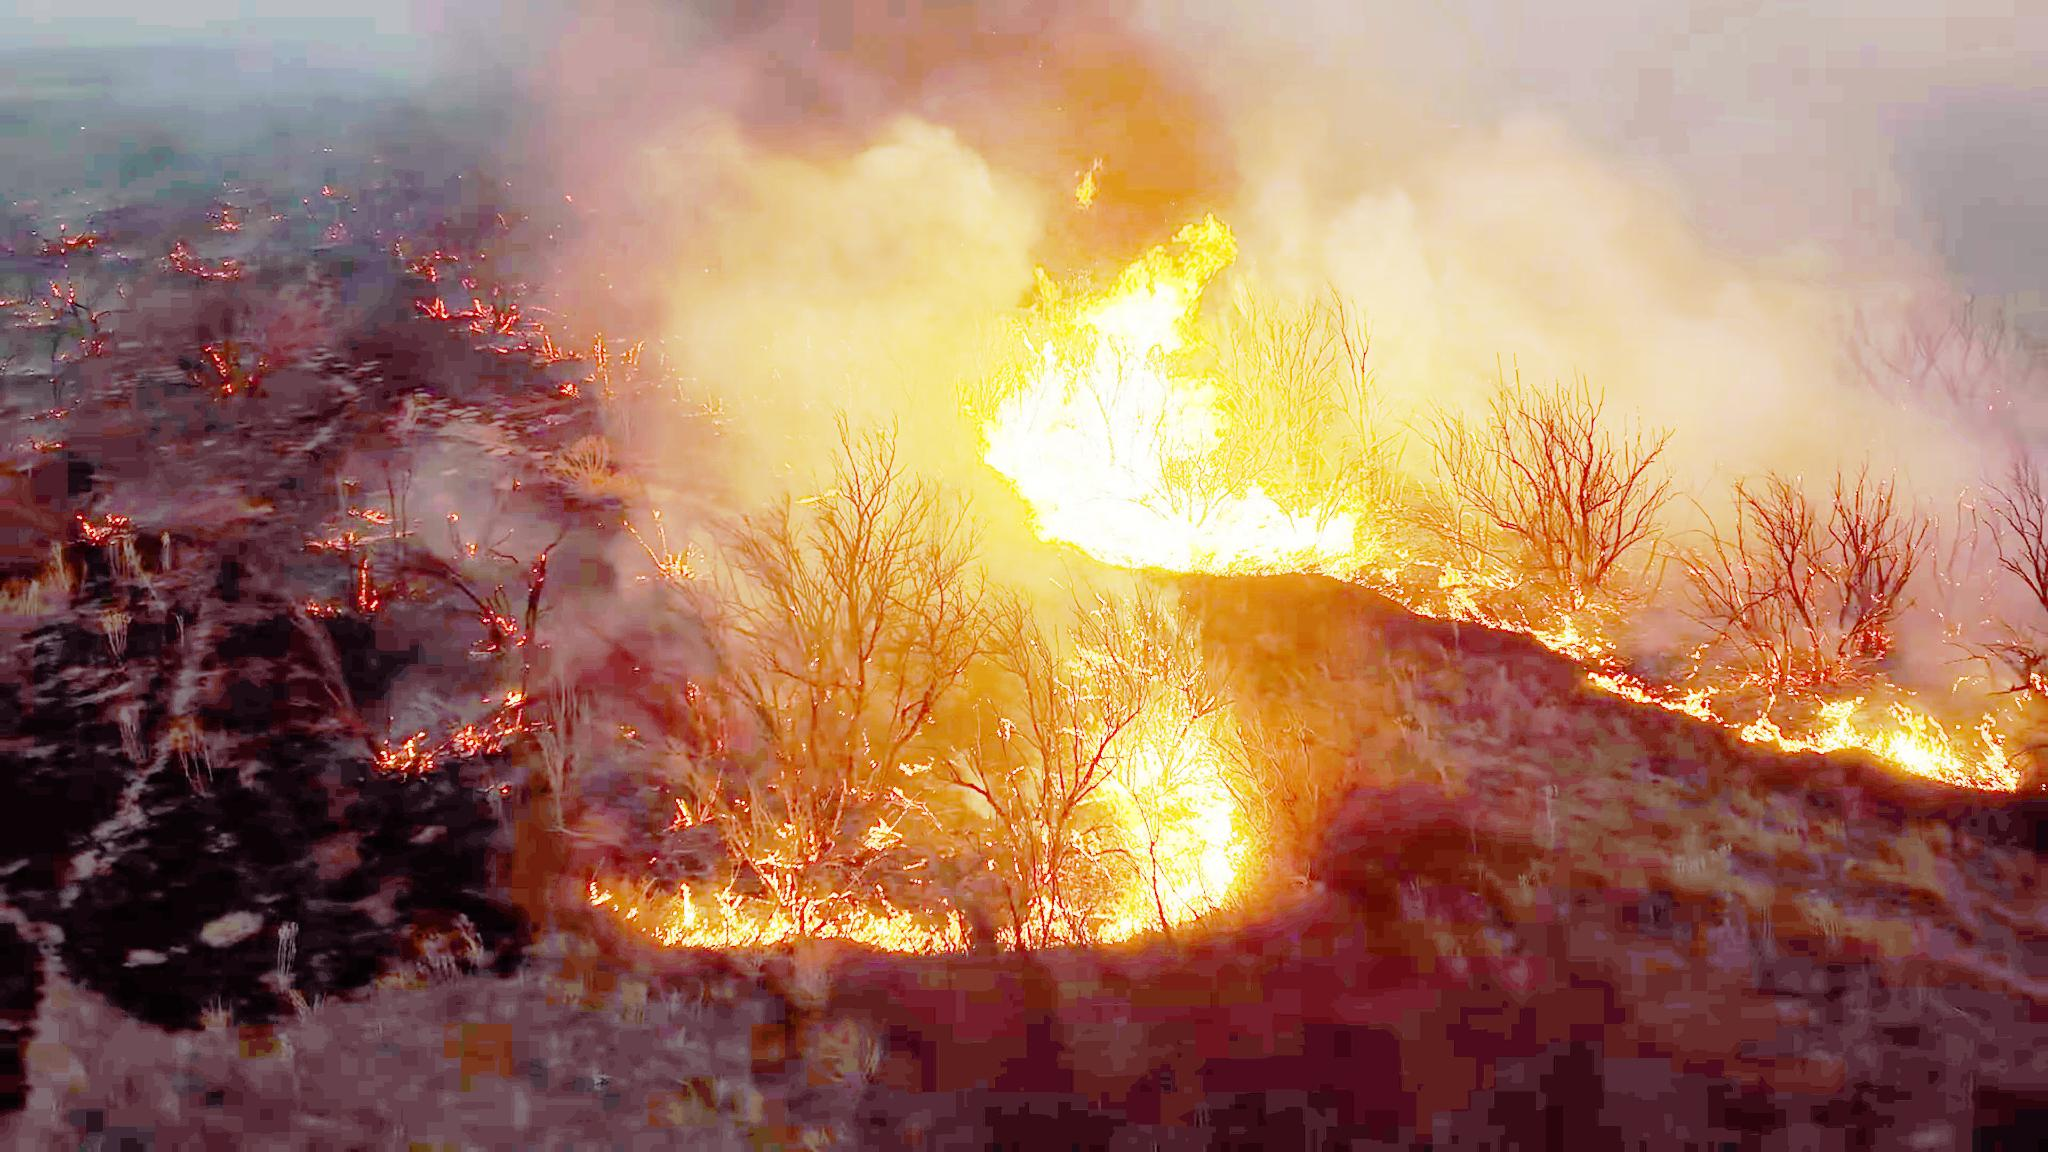fire: (966, 214, 1356, 553), (1059, 616, 1257, 920)
smoke: (636, 73, 914, 392)
